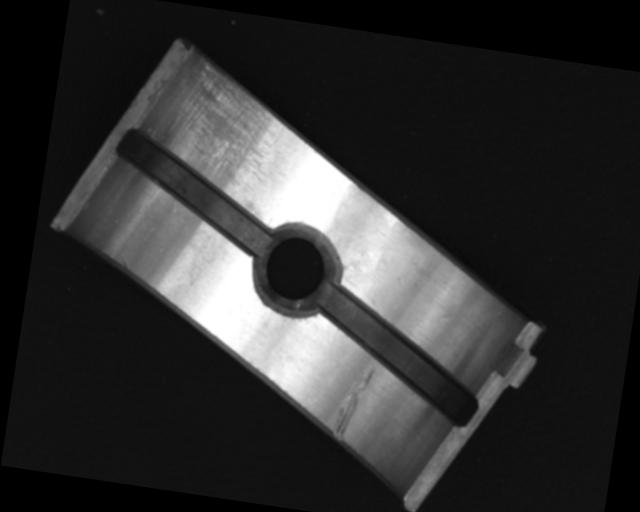gap: (307, 282, 490, 428), (102, 127, 284, 257)
hole: (250, 217, 341, 317)
nick: (328, 363, 377, 446)
scratch: (158, 60, 289, 194)
